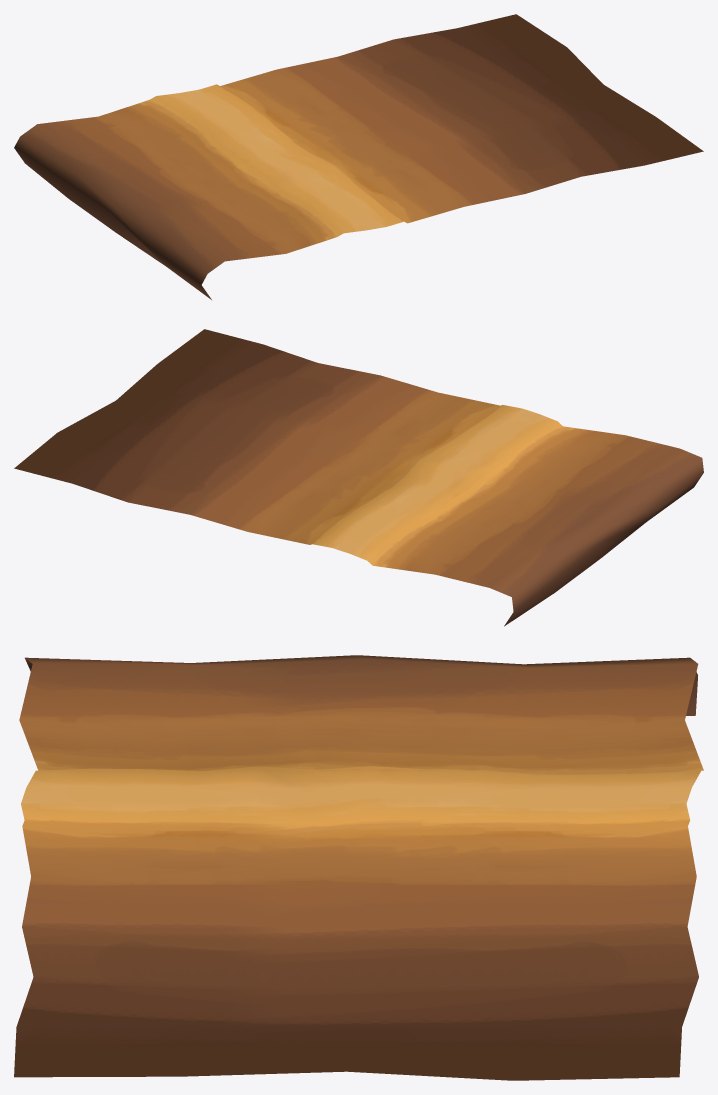
Rendered from Sol_0.FBX.
3 renders of one model, top to bottom at view 1: azimuth 30°, elevation 25°; view 2: azimuth 150°, elevation 25°; view 3: azimuth 270°, elevation 25°, orthographic. The views are drawn at different scales.
Parts seen in each view (by area): view 1: Sol004; view 2: Sol004; view 3: Sol004.
Boxes of the visible parts, <box> form: Sol004: <box>14,14,703,299</box>; Sol004: <box>14,329,703,626</box>; Sol004: <box>14,655,703,1080</box>.
Size of the model in its own units: 31.05 by 2.11 by 20.73.
